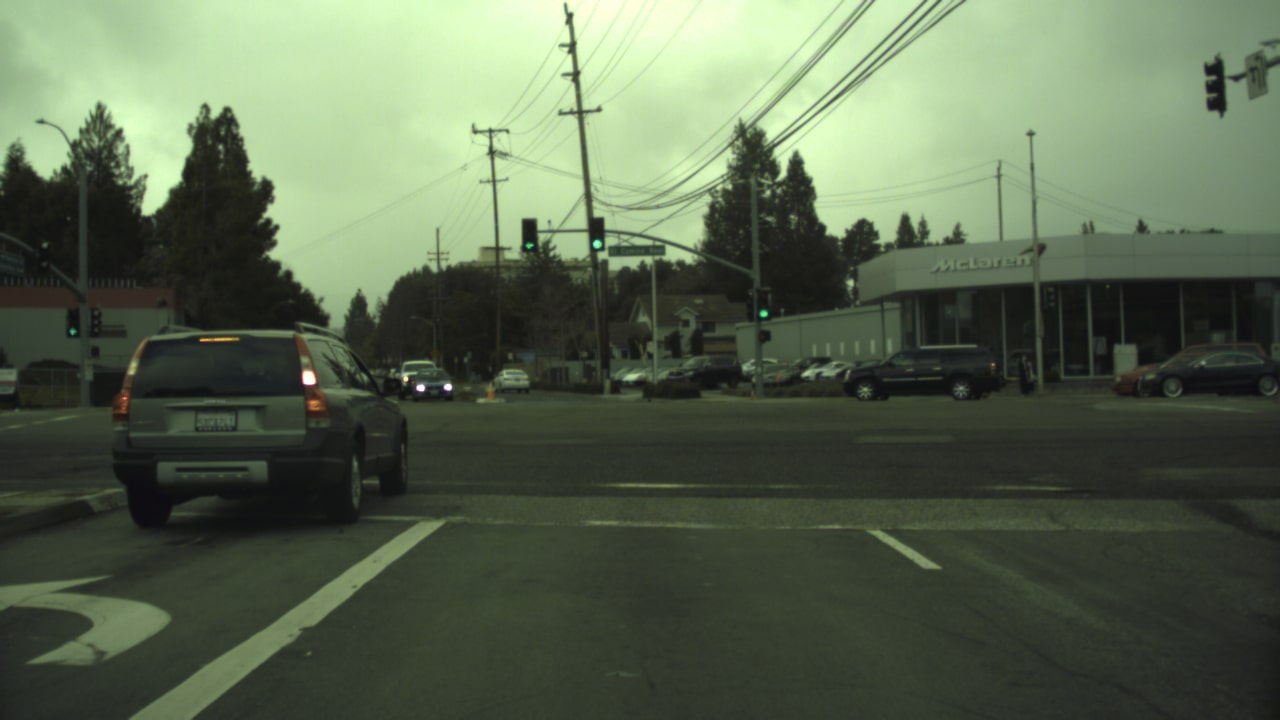signal: (65, 306, 82, 346), (520, 218, 537, 255), (588, 214, 604, 252), (755, 296, 770, 326)
